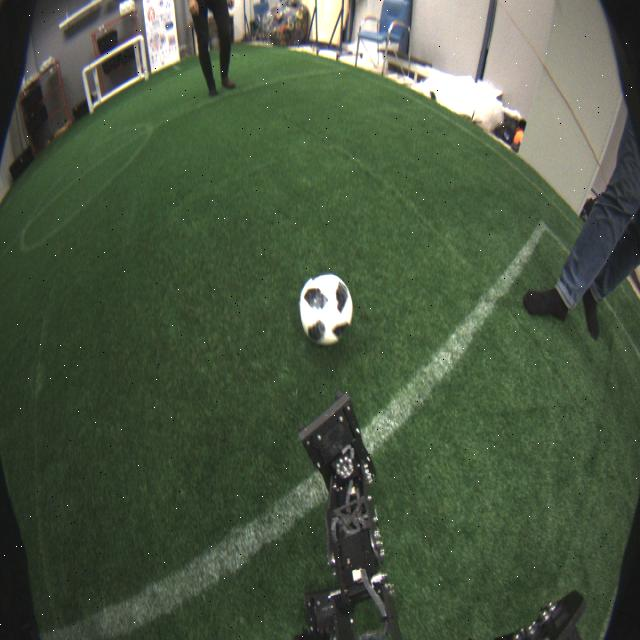ball: (299, 273, 354, 346)
goalpost: (81, 68, 94, 112), (141, 34, 149, 79)
